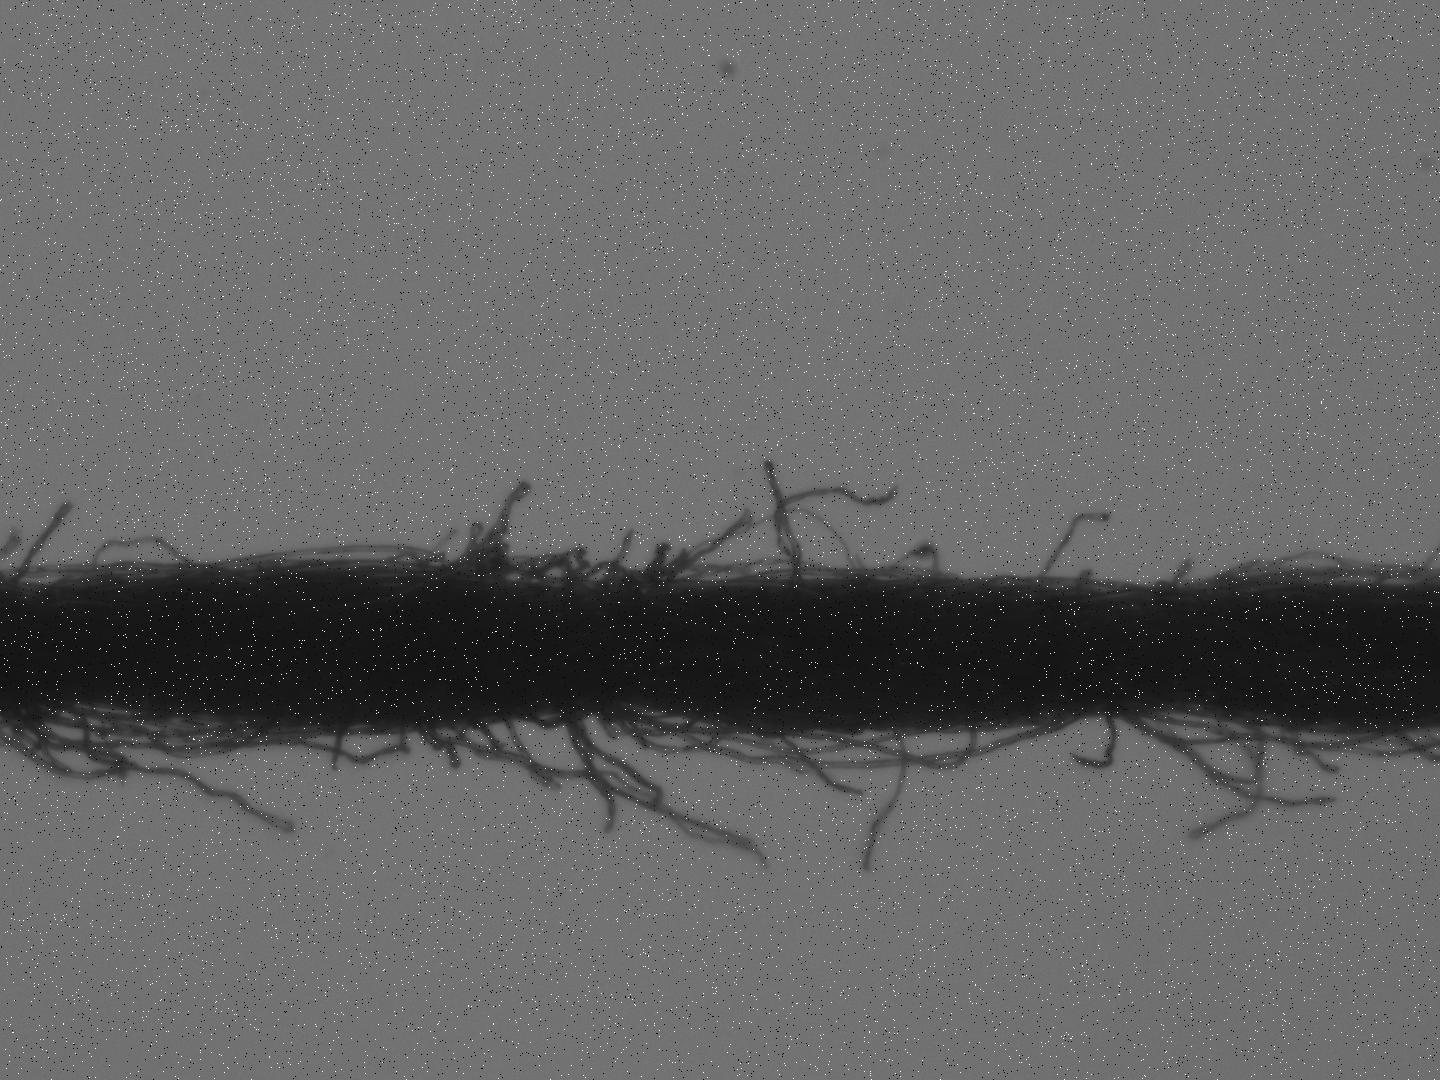loop_fiber: (425, 479, 542, 588), (44, 706, 256, 759), (1123, 714, 1267, 786), (771, 726, 976, 774), (608, 703, 726, 760), (90, 535, 189, 587), (294, 727, 409, 762), (570, 559, 666, 591), (872, 546, 937, 589), (531, 545, 590, 588), (513, 710, 587, 731)
protruding_fiber: (858, 729, 910, 883), (7, 490, 71, 591), (759, 456, 804, 598), (1027, 512, 1111, 585), (773, 731, 862, 800), (1075, 712, 1120, 769), (330, 731, 346, 776)
